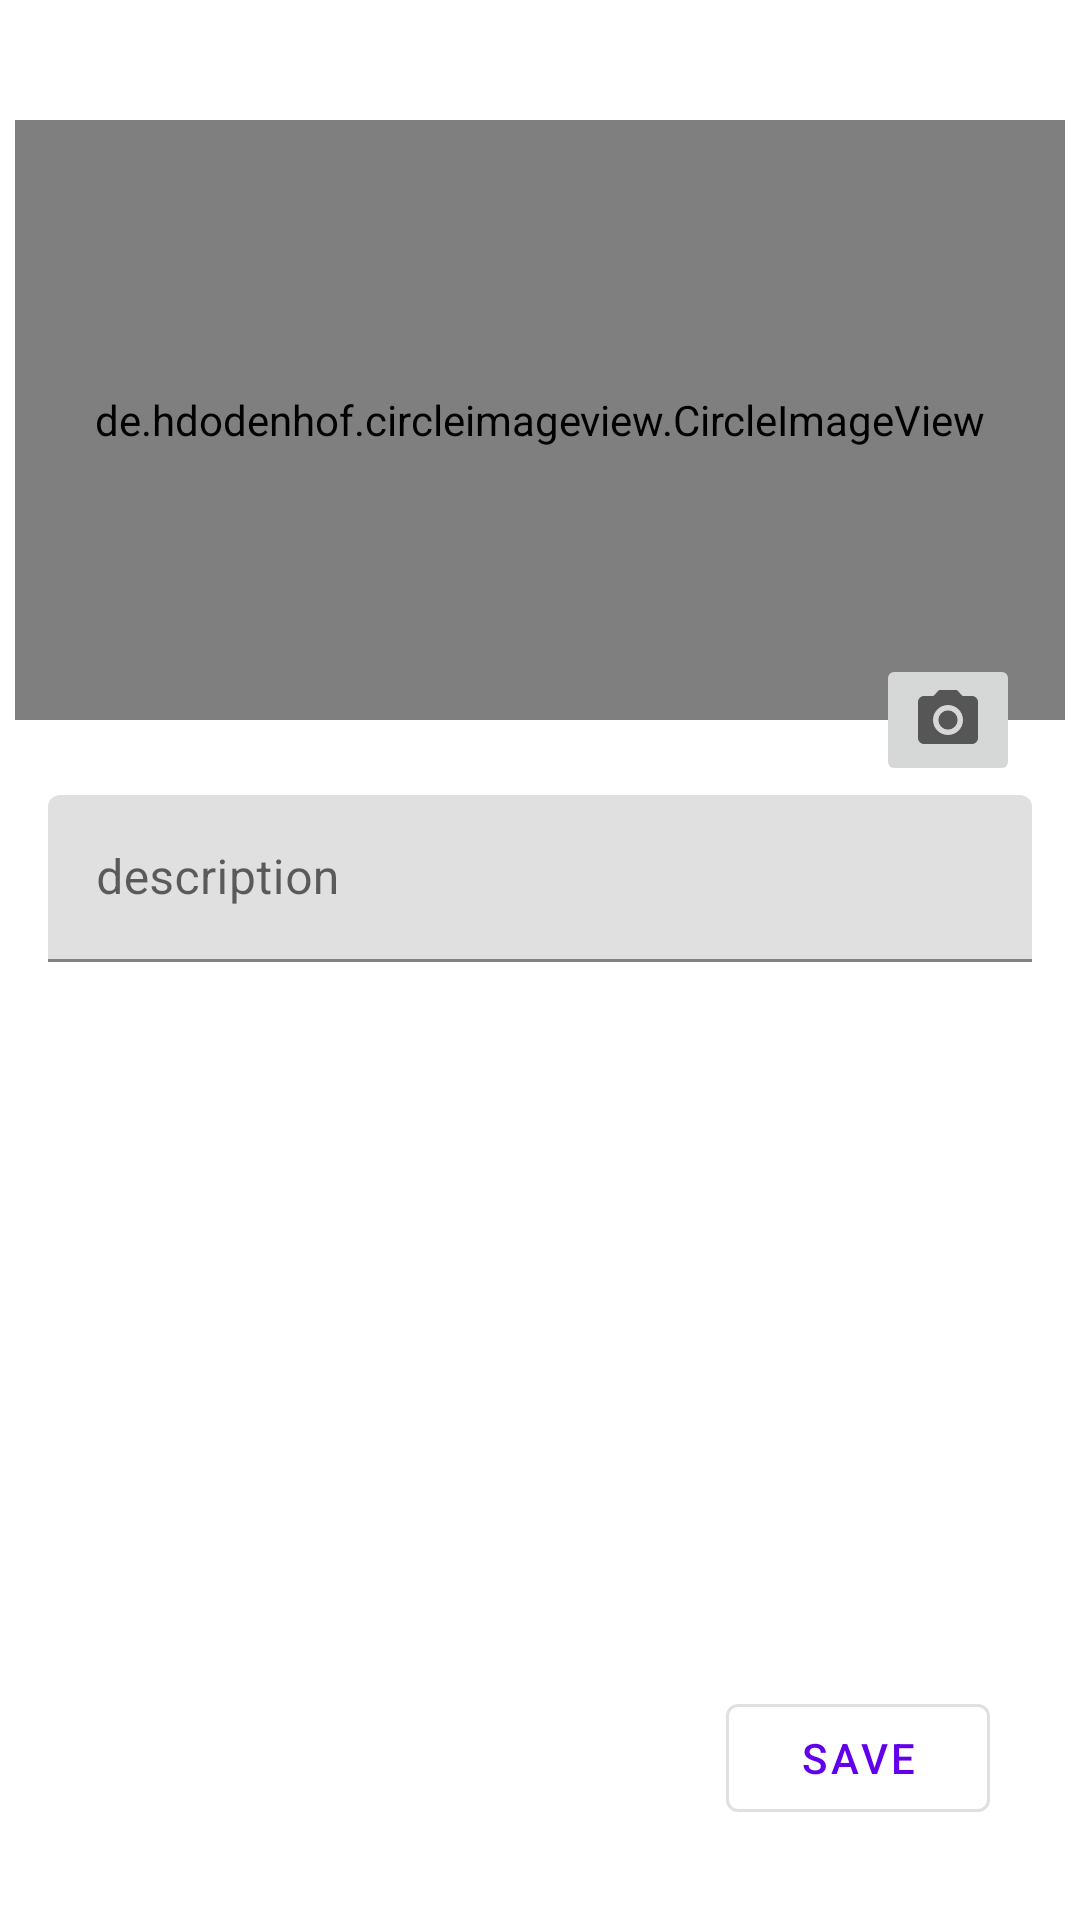

Icon click points for this 1080px x 1920px phone screenshot, format [x,y]:
camera: [948,720]
